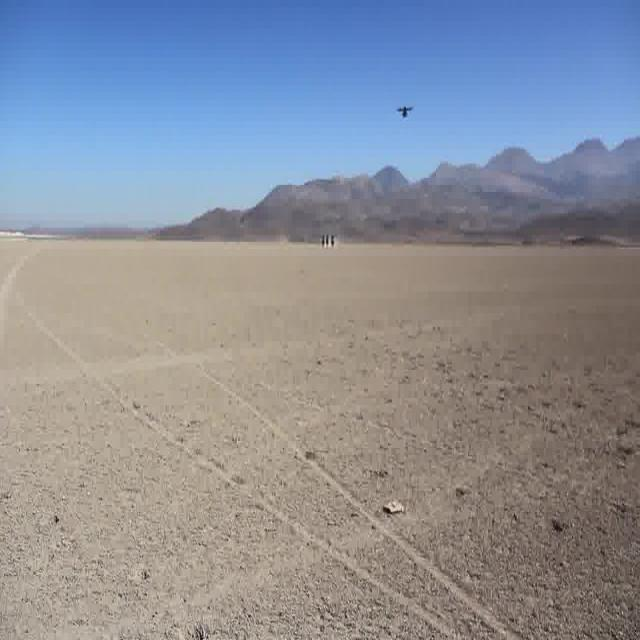drones: (391, 94, 418, 133)
